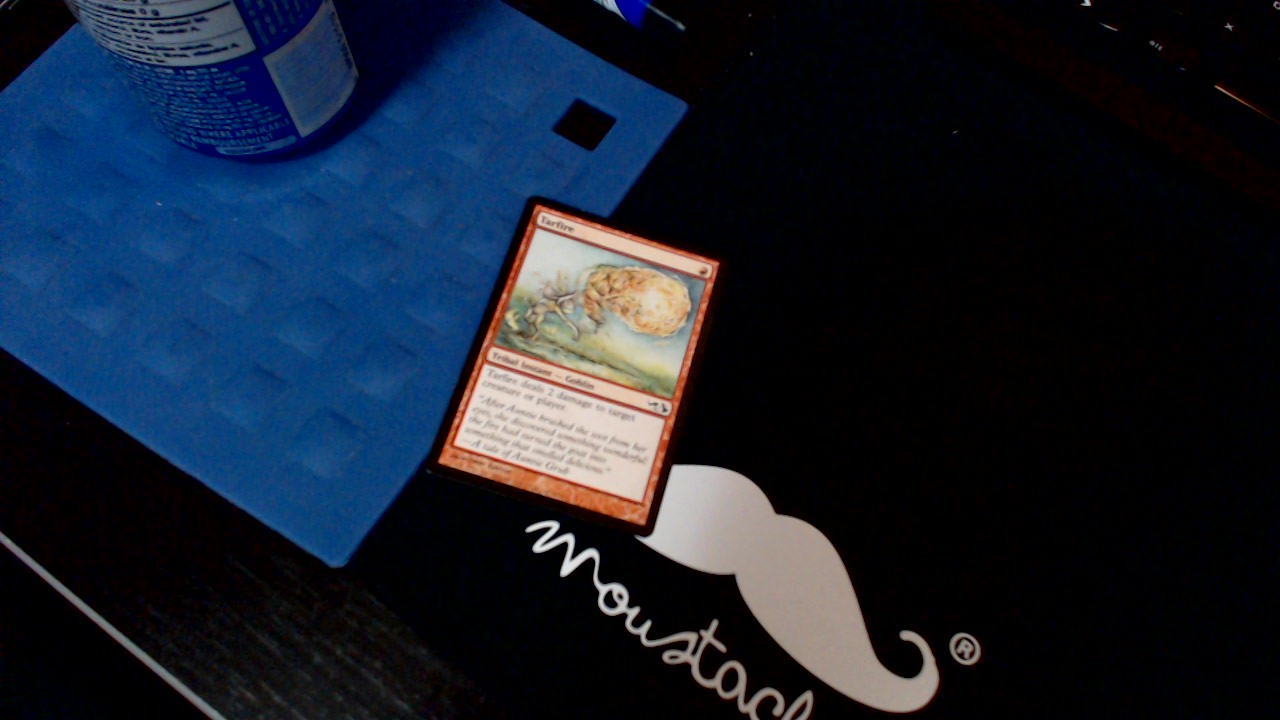MTG Card: (417, 190, 742, 542)
